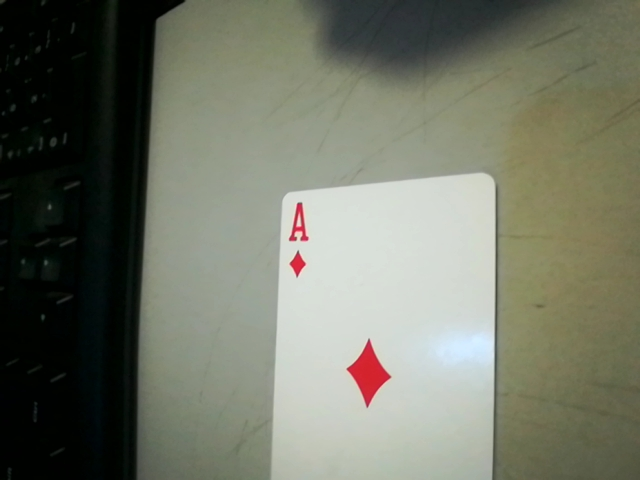fk a: (272, 197, 317, 285)
